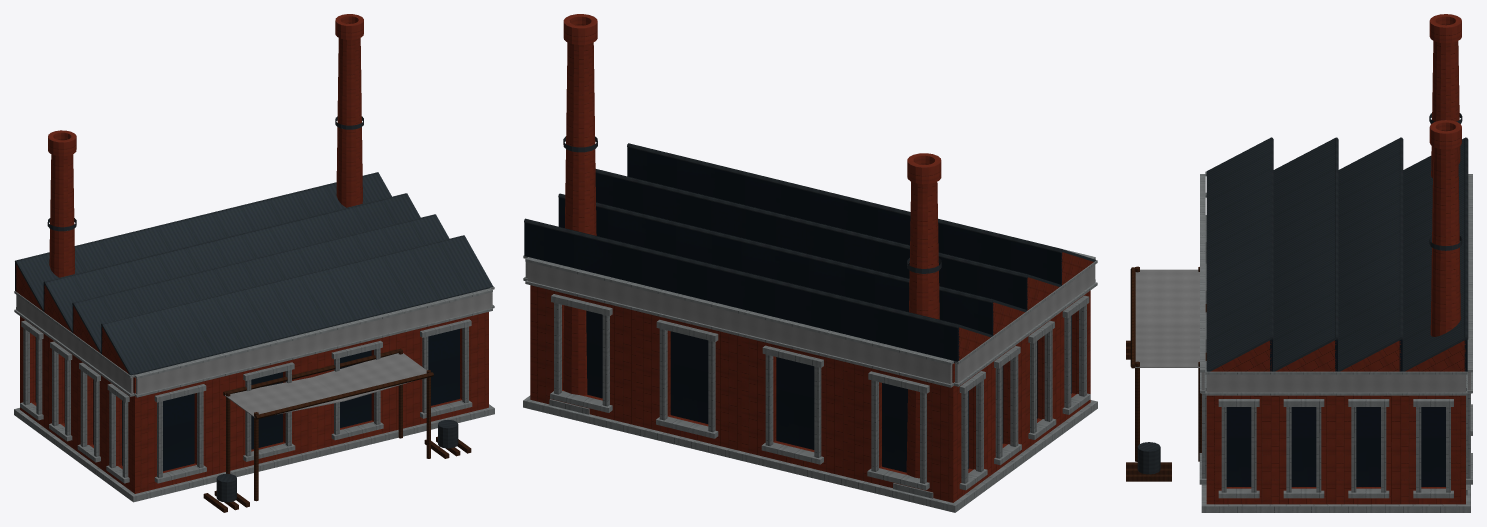
Rendered from factory.glb.
3 renders of one model, left to right at view 1: azimuth 30°, elevation 25°; view 2: azimuth 150°, elevation 25°; view 3: azimuth 270°, elevation 25°, orthographic. The views are drawn at different scales.
Visible parts, largest first — view 1: LOD0; view 2: LOD0; view 3: LOD0.
Part boxes in pixels (box(x1,y1,x2,y2)): LOD0: box(14, 14, 494, 512); LOD0: box(523, 14, 1097, 512); LOD0: box(1126, 14, 1472, 512).
Size of what is drawn, in the model's own units: 1.65 by 1.4 by 1.2.
Materials: 2 (2 with a texture image).
